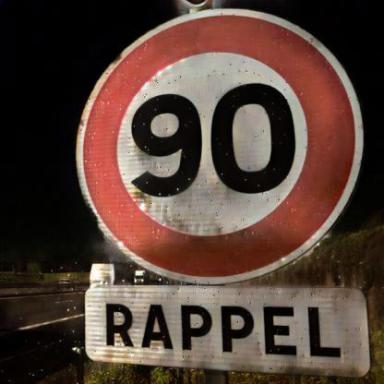Speed_limit_90: (83, 15, 354, 273)
